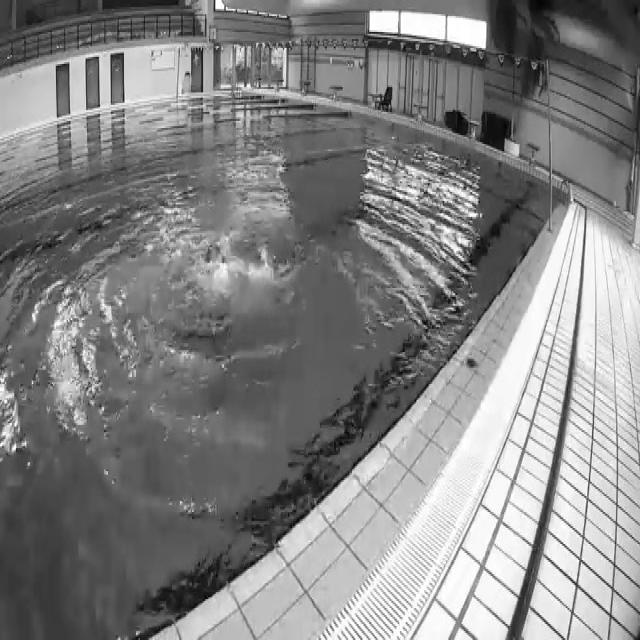Drowning: (165, 202, 266, 346)
